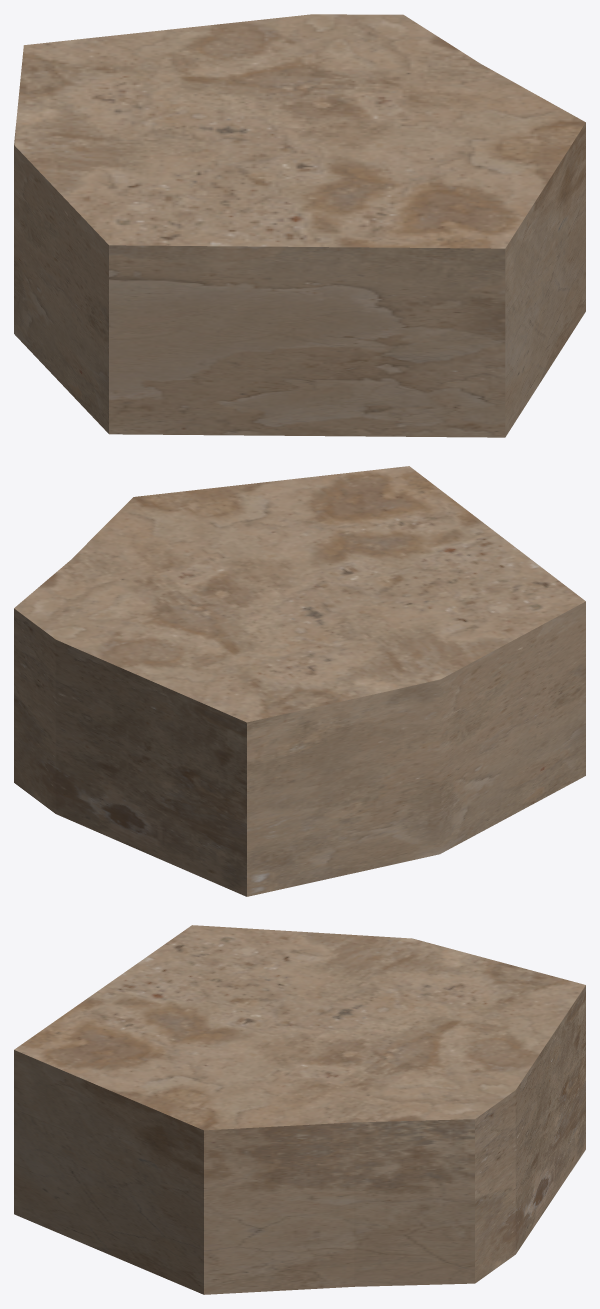
The model's file is Podium.fbx.
3 views of the same model, one above another, from view 1: azimuth 30°, elevation 25°; view 2: azimuth 150°, elevation 25°; view 3: azimuth 270°, elevation 25° (orthographic). The views are drawn at different scales.
Visible parts, largest first — view 1: Batu_Baked; view 2: Batu_Baked; view 3: Batu_Baked.
Part boxes in pixels (x1,y1,x2,y2): Batu_Baked: (14,14,585,437); Batu_Baked: (14,466,585,896); Batu_Baked: (14,925,585,1294).
Bounding box in the file's own units: 803 × 300 × 946.
1 material, 1 textured.
